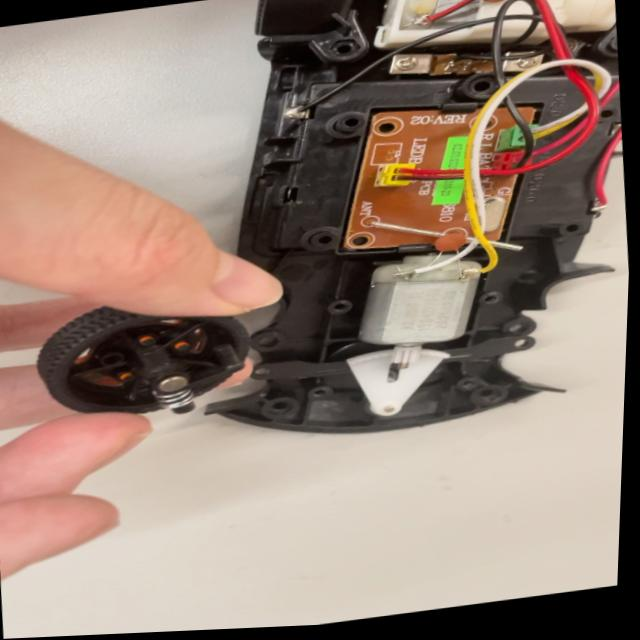motor: (347, 243, 488, 375)
wheel: (29, 280, 262, 432)
